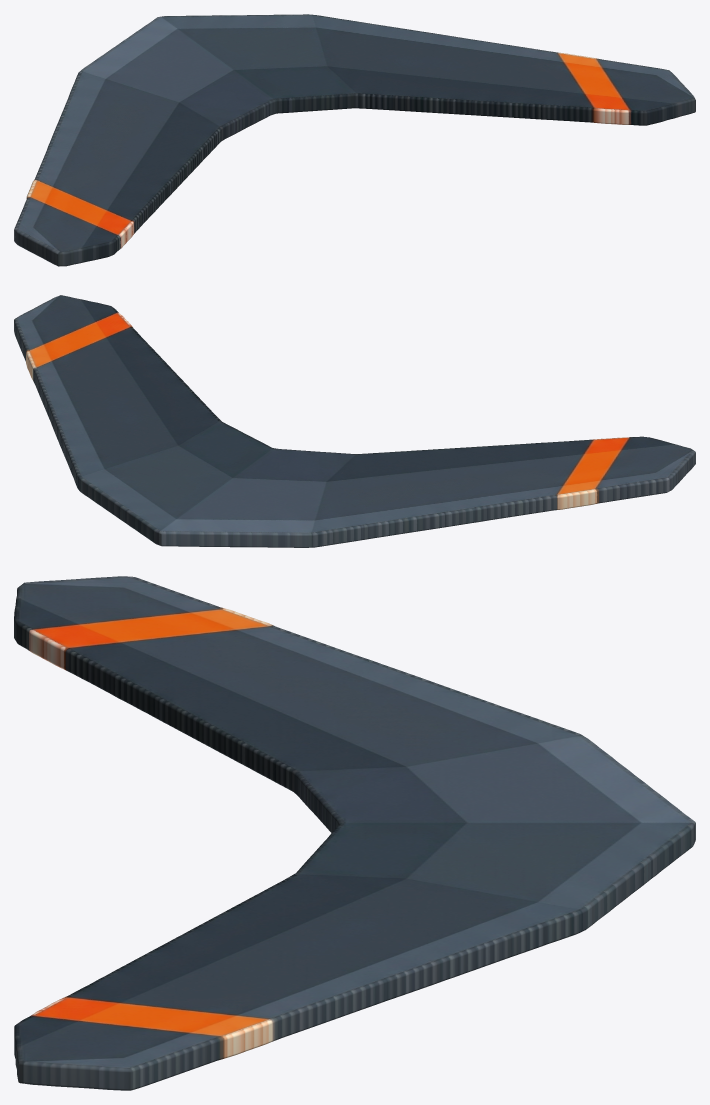
The model's file is Boomerang_7.fbx.
3 views of the same model, one above another, from view 1: azimuth 30°, elevation 25°; view 2: azimuth 150°, elevation 25°; view 3: azimuth 270°, elevation 25° (orthographic). The views are drawn at different scales.
Visible parts, largest first — view 1: Boomerang_7; view 2: Boomerang_7; view 3: Boomerang_7.
Part boxes in pixels (bbox=[...]): Boomerang_7: bbox=[14, 14, 695, 266]; Boomerang_7: bbox=[14, 295, 695, 547]; Boomerang_7: bbox=[14, 576, 695, 1090].
Size of the model in its own units: 193 by 4 by 113.
1 material, 1 textured.
